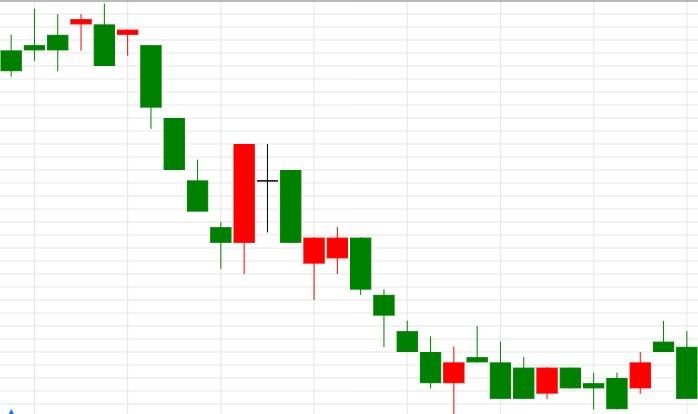bullish_engulfing_rise: (69, 3, 256, 275)
three_black_crows_fall: (303, 228, 419, 353)
